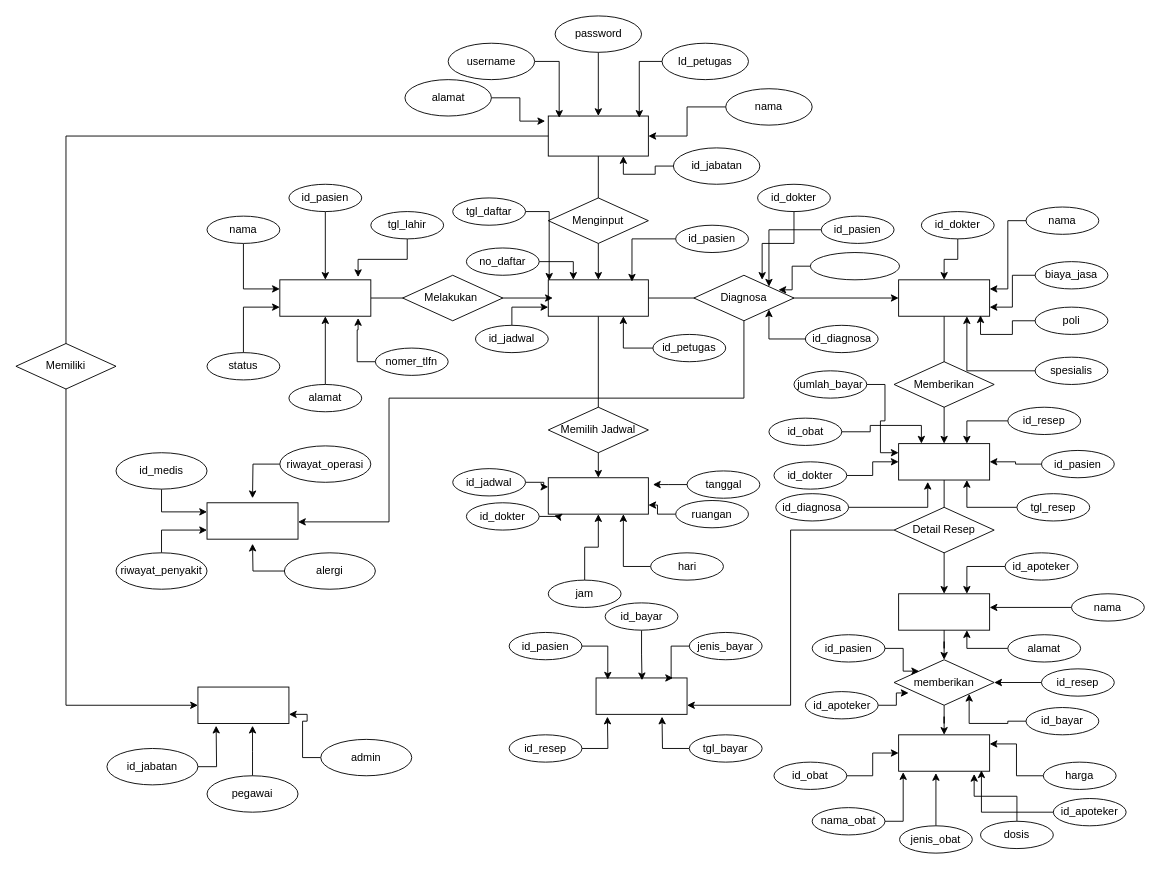
Image size: 1160x869. Some labels were removed from this diagram. The centre of each missing label's shape, as x and y in pixels:
Apoteker: the point at 944,611
Daftar: the point at 597,297
Dokter: the point at 944,297
hasil_diagnosa: the point at 854,266
Jabatan: the point at 243,704
Jadwal: the point at 597,495
Obat: the point at 944,752
Pasien: the point at 325,297
Pegawai_RS: the point at 597,135
Pembayaran: the point at 641,695
Rekam Medis: the point at 252,520
Resep: the point at 944,461
